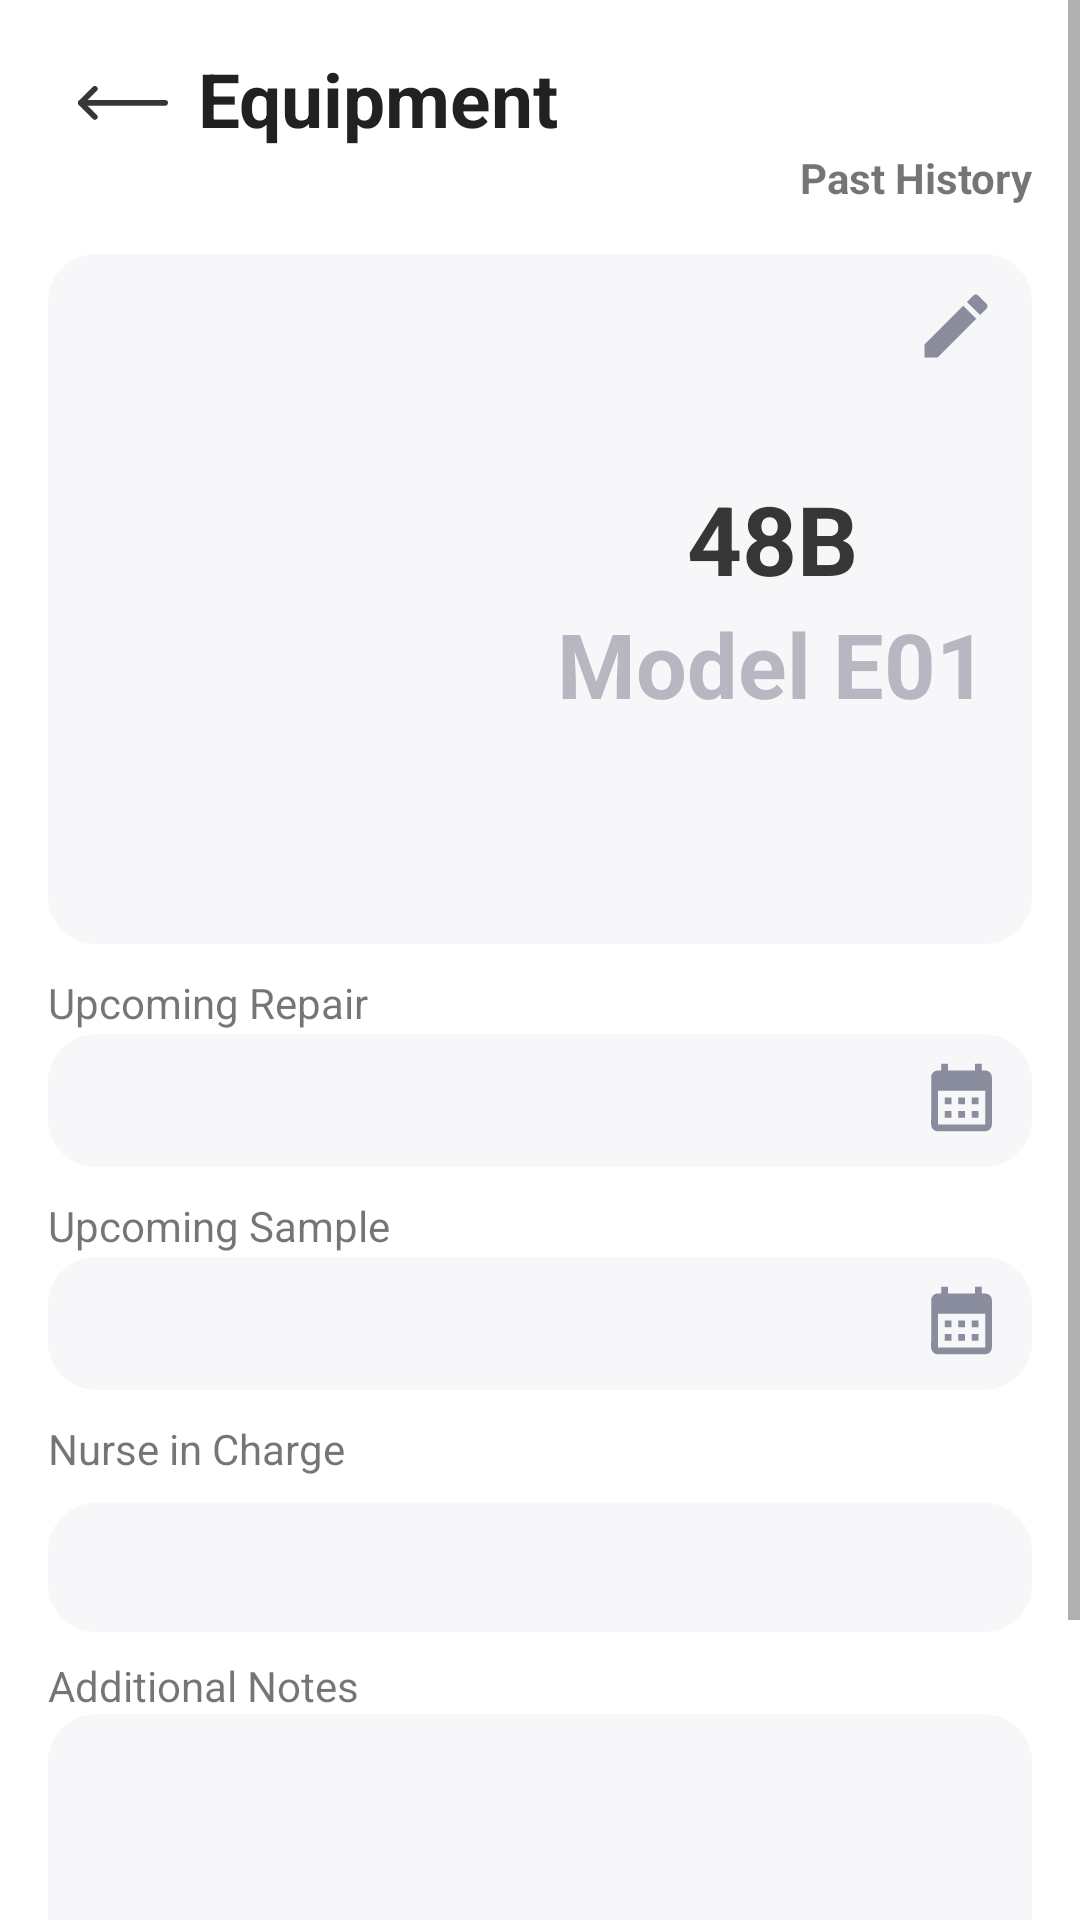

Screen size 1080 × 1920. Icon name, then its box in pixels as (x1, y1, x2, y2):
back arrow: (78, 86, 168, 120)
calendar month: (931, 1063, 992, 1132), (931, 1286, 992, 1355)
edit: (924, 294, 988, 358)
